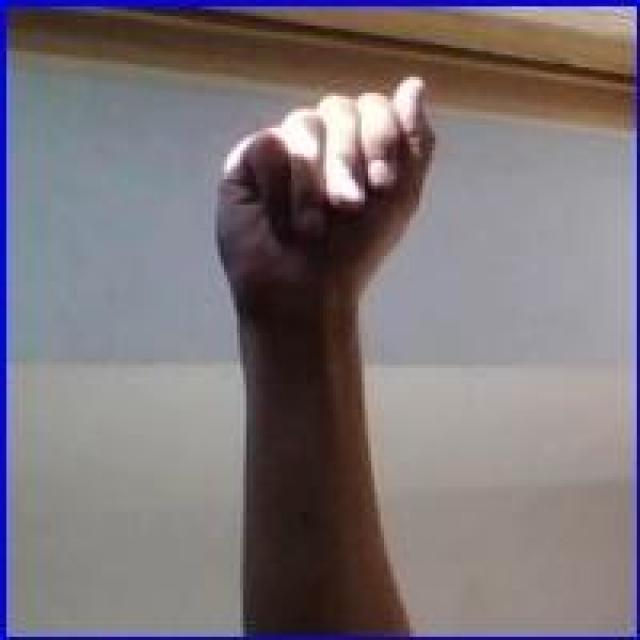A: (213, 72, 443, 334)
